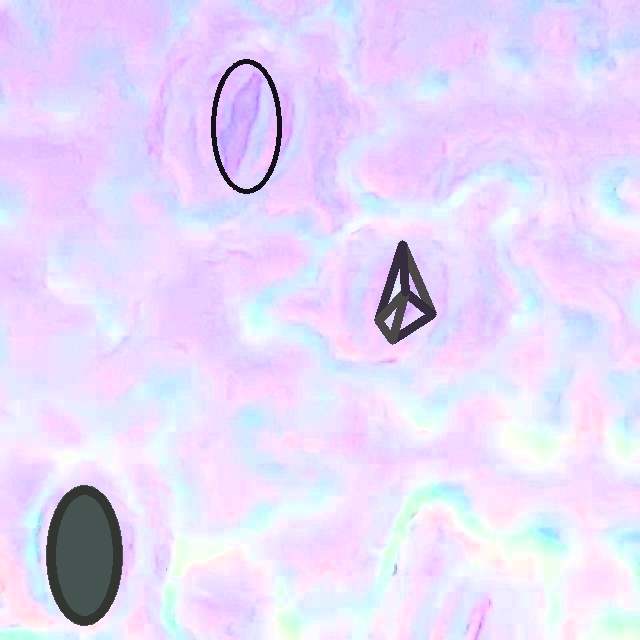close: (374, 241, 436, 343)
open: (45, 485, 122, 624), (210, 58, 281, 194)
